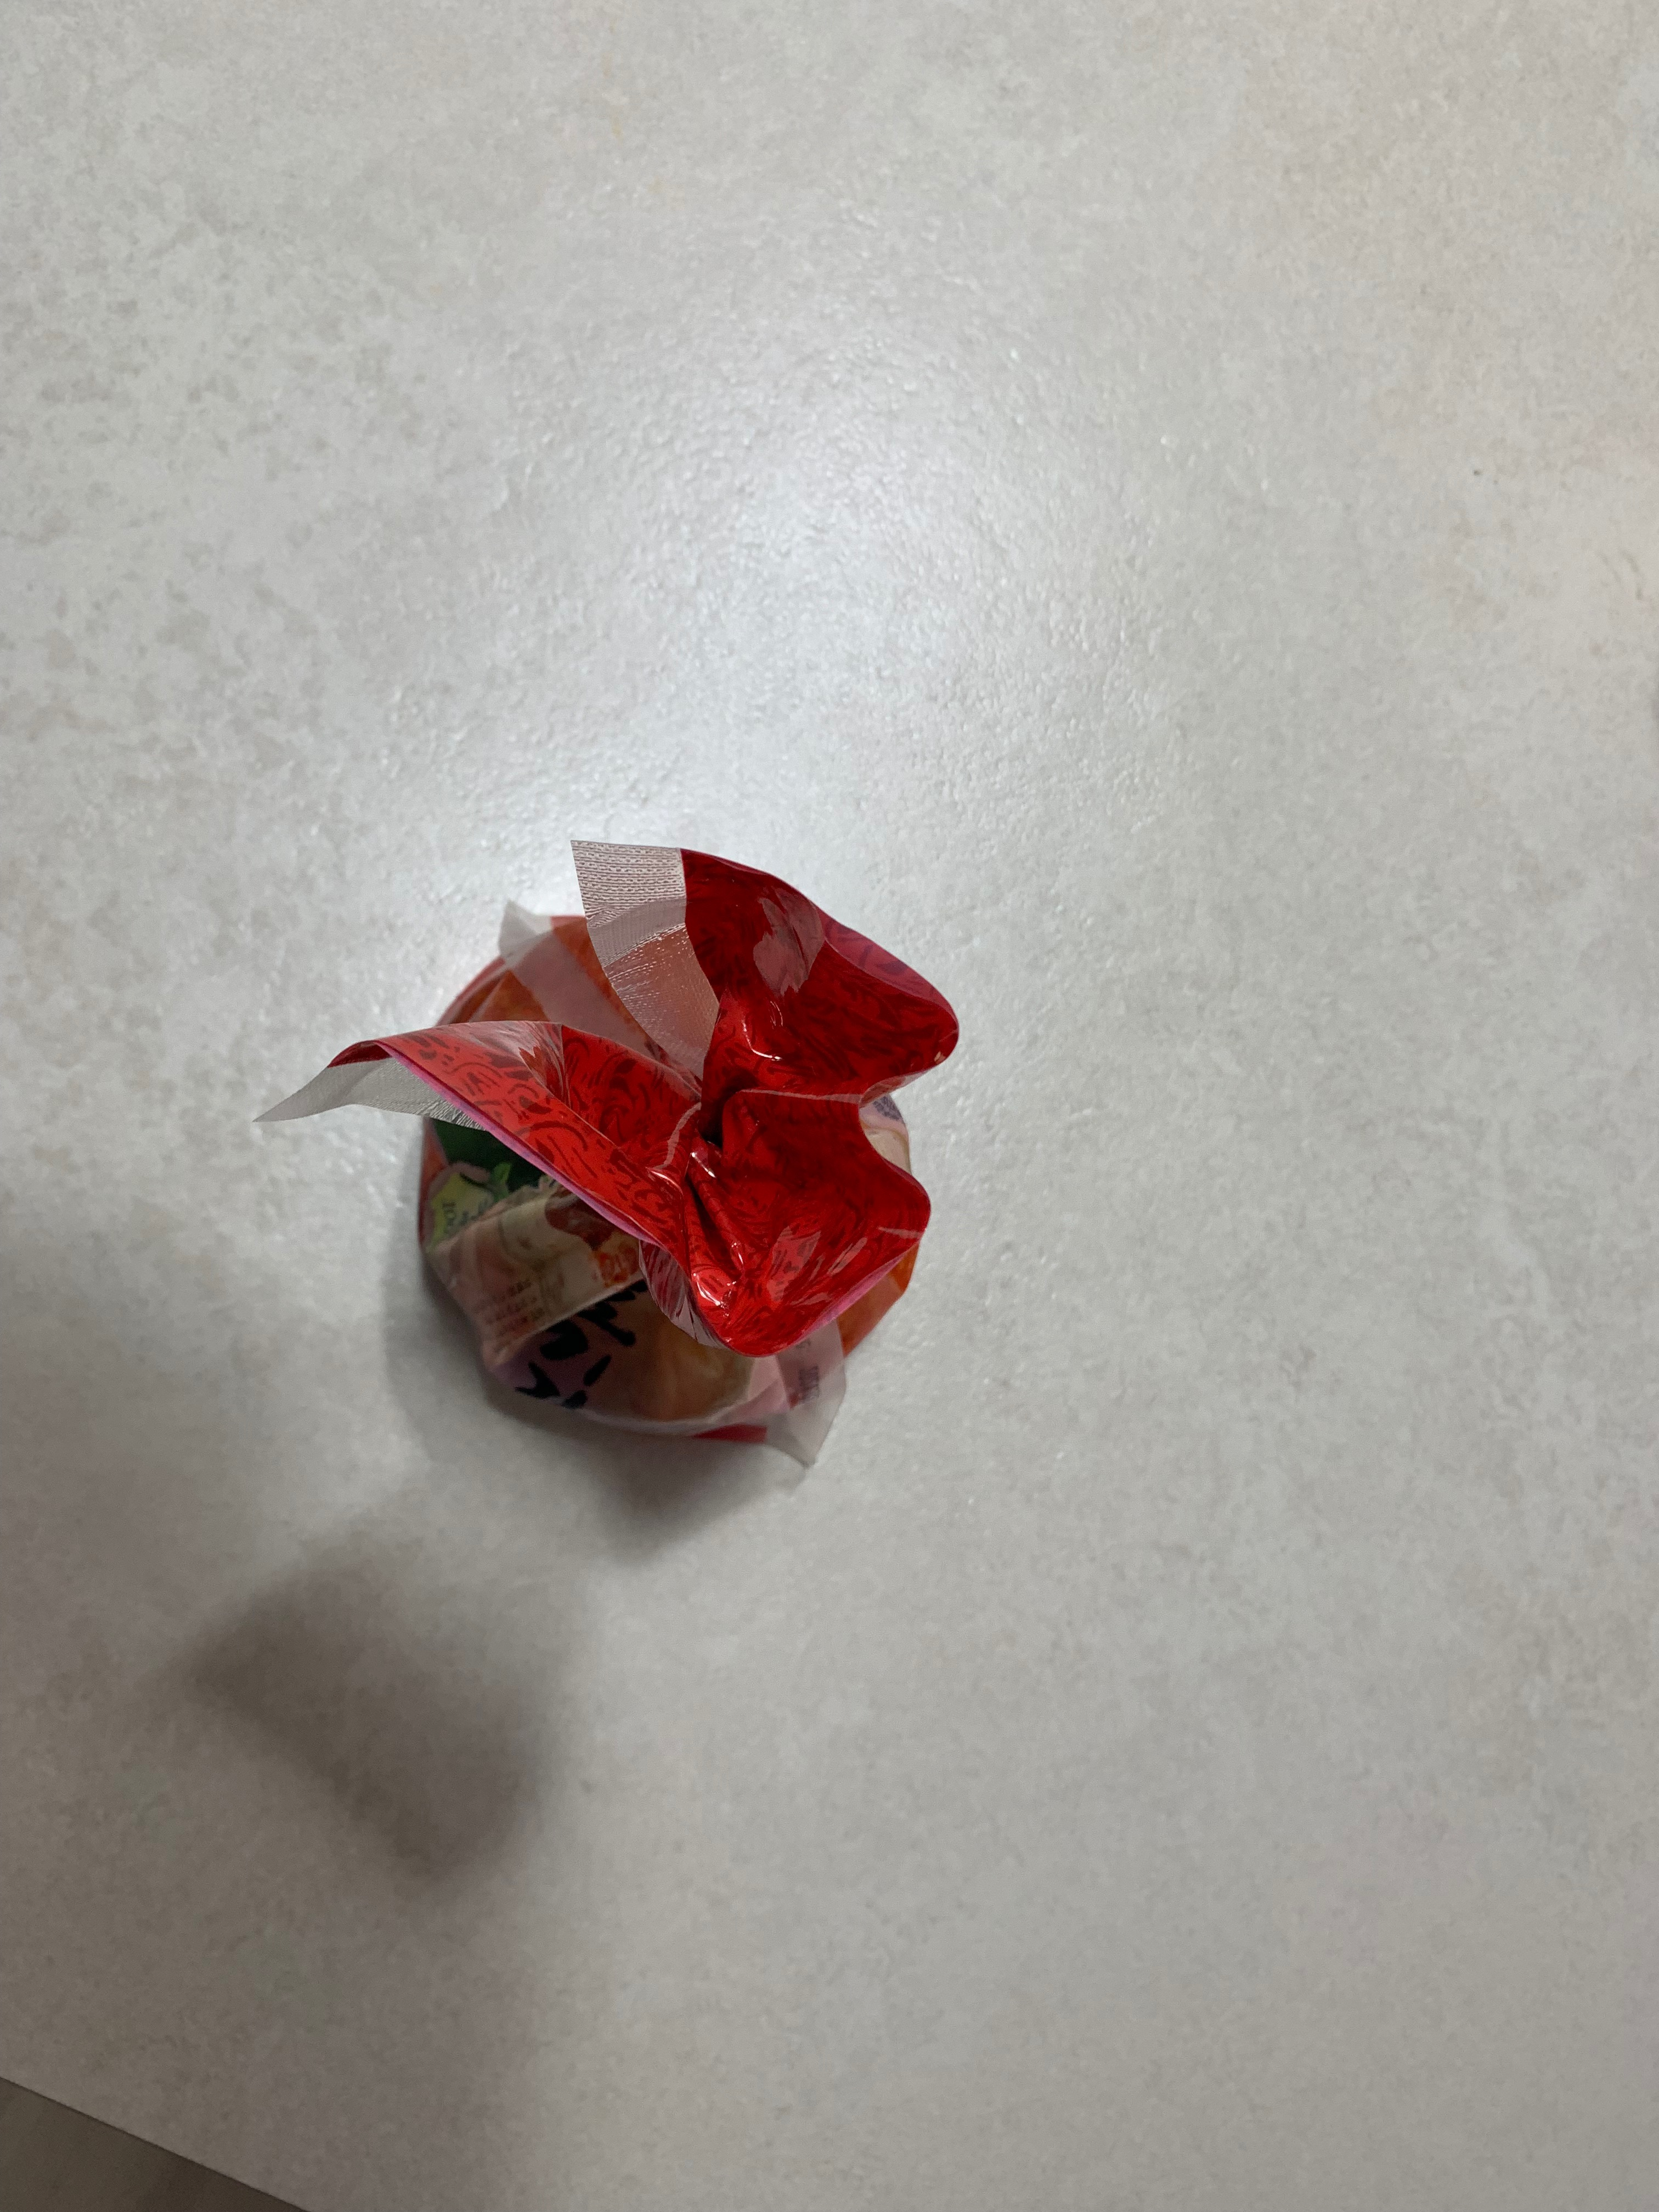kimchi: (256, 840, 958, 1477)
